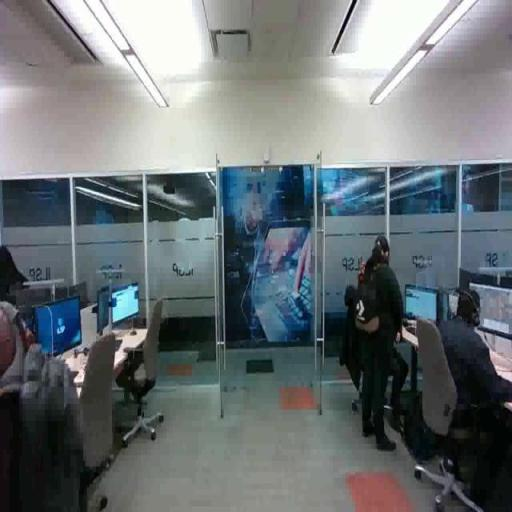person: (429, 283, 512, 500), (361, 236, 403, 452)
